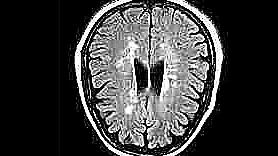Normal_Brain: (1, 1, 278, 156)
